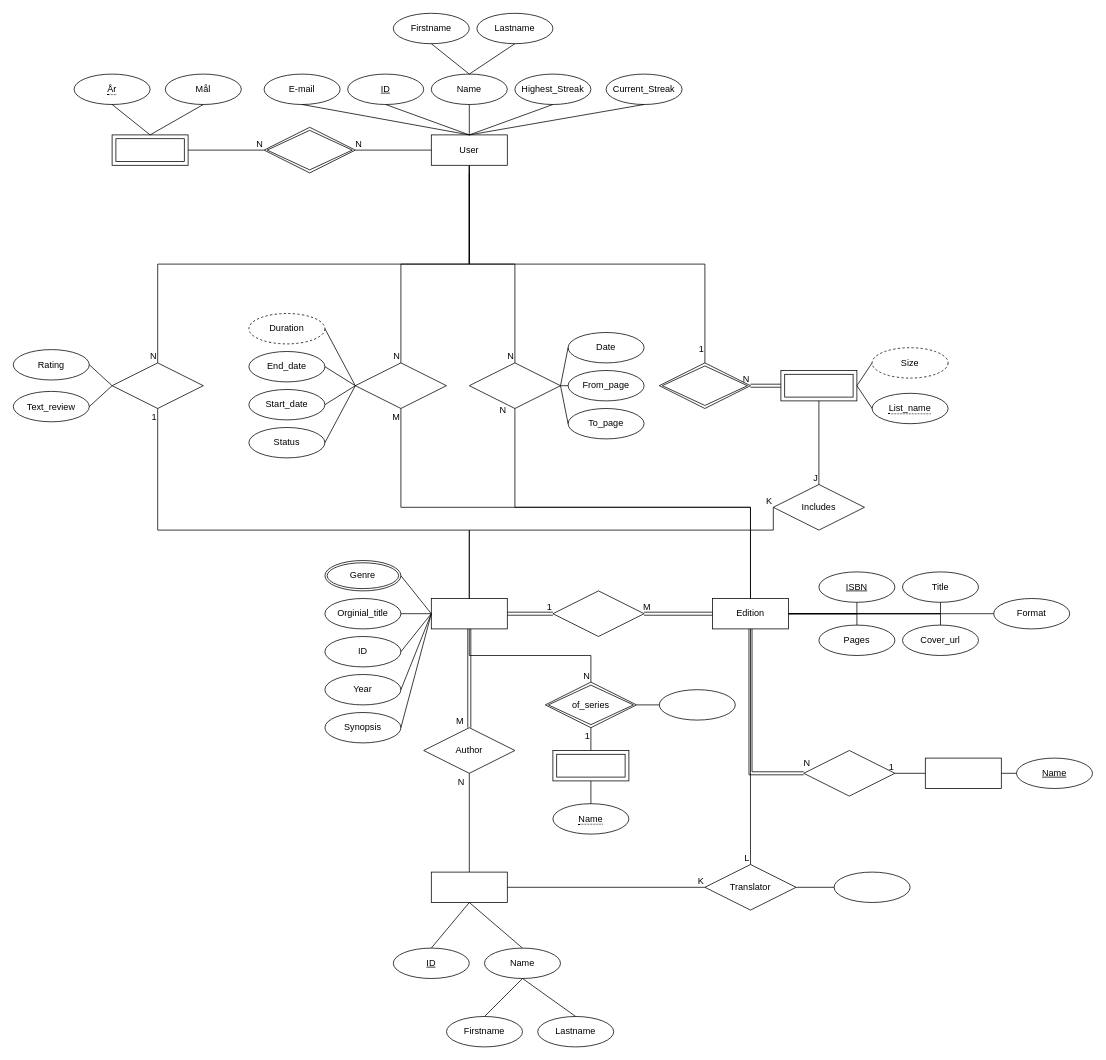
This 1106x1060 diagram has some shape labels left out. Each missing label, with the centre of its shape:
"Book" belongs at point 469,613.
"By" belongs at point 849,773.
"Contributor" belongs at point 469,886.
"Creates" belongs at point 704,385.
"edt_of" belongs at point 598,613.
"Har_en" belongs at point 309,150.
"Journal" belongs at point 514,385.
"Language" belongs at point 871,886.
"List" belongs at point 818,385.
"Number" belongs at point 697,704.
"Publisher" belongs at point 963,772.
"Read" belongs at point 400,385.
"Reviews" belongs at point 157,385.
"Series" belongs at point 590,765.
"Utfordring" belongs at point 149,149.
